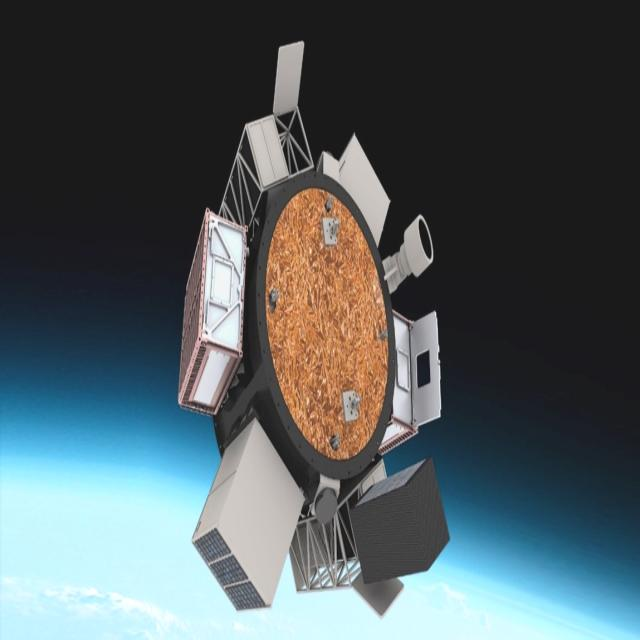medium_debris: (170, 27, 453, 623)
